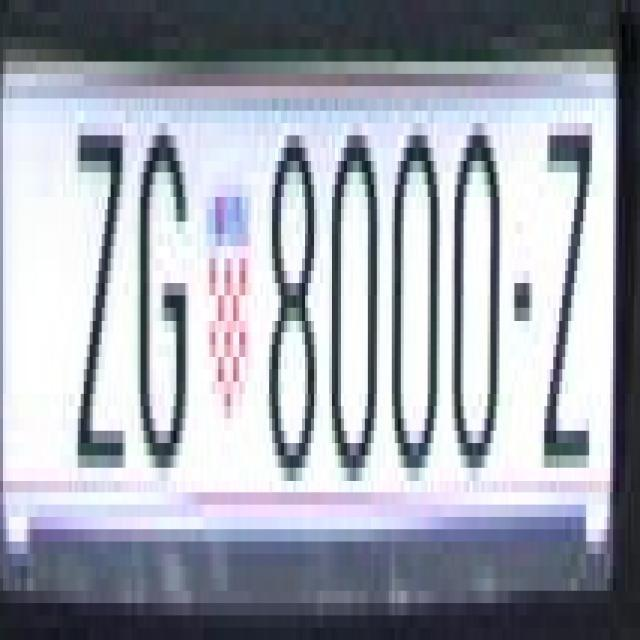0: (332, 99, 380, 468), (454, 110, 502, 456), (394, 110, 442, 456)
8: (269, 111, 323, 492)
G: (138, 123, 195, 480)
Z: (78, 123, 126, 480), (541, 110, 589, 456)
